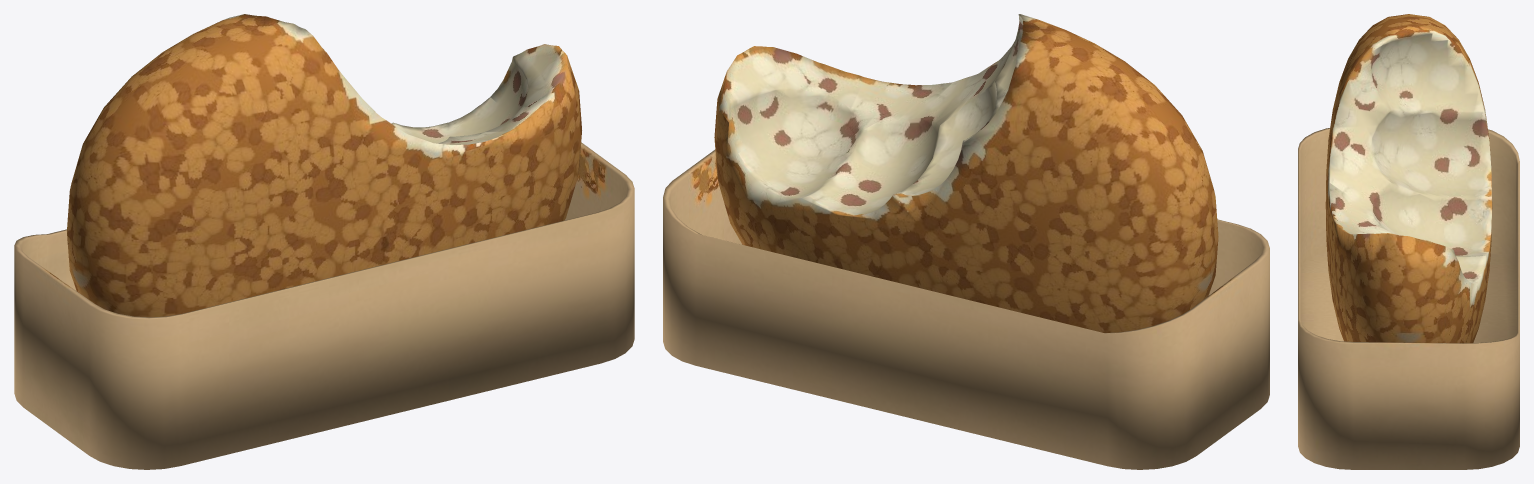
The model's file is korokke_b1.glb.
3 renders of one model, left to right at view 1: azimuth 30°, elevation 25°; view 2: azimuth 150°, elevation 25°; view 3: azimuth 270°, elevation 25°, orthographic. The views are drawn at different scales.
Parts seen in each view (by area): view 1: prop_korokke_b1_felt; view 2: prop_korokke_b1_felt; view 3: prop_korokke_b1_felt.
Boxes of the visible parts, left/top/right/bottom form: prop_korokke_b1_felt: left=14, top=14, right=634, bottom=469; prop_korokke_b1_felt: left=663, top=14, right=1269, bottom=469; prop_korokke_b1_felt: left=1298, top=14, right=1519, bottom=469.
Bounding box in the file's own units: 0.168 × 0.1089 × 0.072.
1 material, 1 textured.
